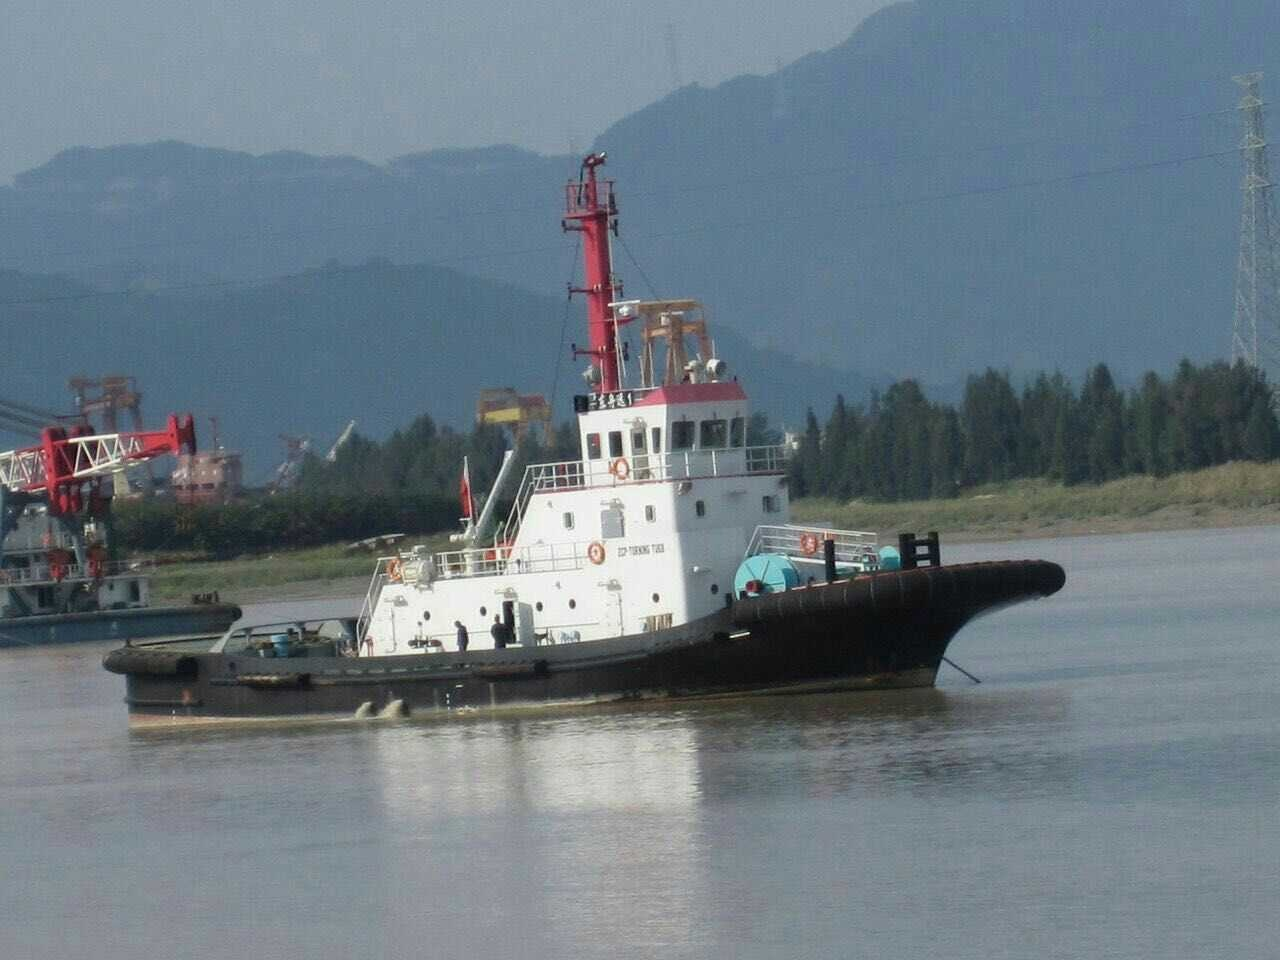otherboat: (103, 142, 1093, 736)
